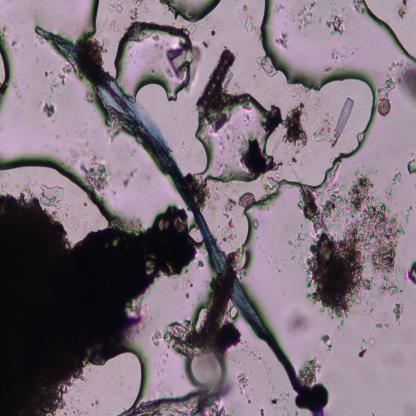Air bubble: (240, 69, 377, 231), (258, 1, 416, 91), (0, 151, 114, 233), (186, 93, 272, 183), (112, 20, 197, 103), (55, 345, 148, 415), (362, 0, 416, 66), (186, 352, 230, 389), (164, 0, 223, 22), (0, 31, 14, 103), (193, 307, 209, 331), (190, 224, 205, 242), (229, 302, 238, 320)
Background material: (0, 190, 195, 414), (298, 173, 402, 315), (166, 267, 240, 356), (197, 48, 236, 116), (270, 299, 320, 337), (298, 355, 328, 416), (211, 182, 238, 245), (280, 104, 310, 156), (385, 59, 416, 100), (80, 155, 110, 191), (258, 388, 293, 414), (324, 11, 346, 38), (255, 57, 278, 78), (356, 336, 373, 361), (392, 1, 409, 25), (376, 94, 392, 118), (106, 0, 127, 18), (235, 370, 250, 394), (40, 100, 57, 120), (320, 329, 333, 352), (391, 302, 405, 322), (407, 258, 416, 285), (244, 14, 256, 32), (407, 158, 416, 175)
Cotton: (34, 27, 316, 406)
Diatom: (332, 97, 354, 146), (238, 191, 255, 210)
